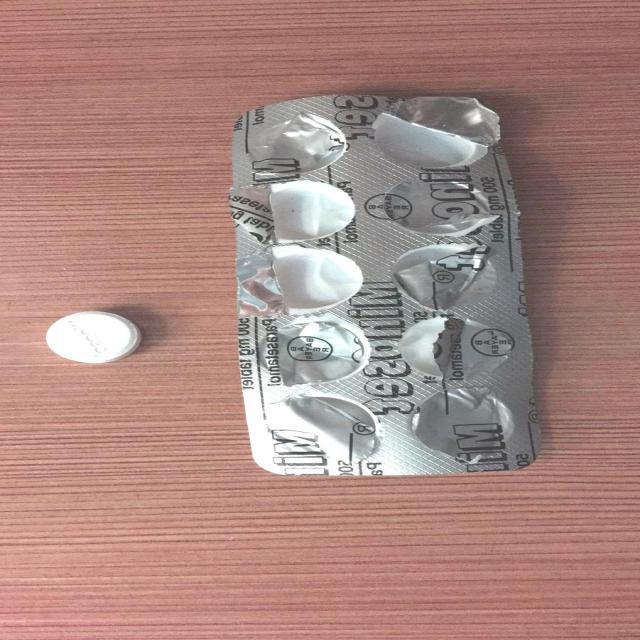pill: (36, 308, 140, 366)
